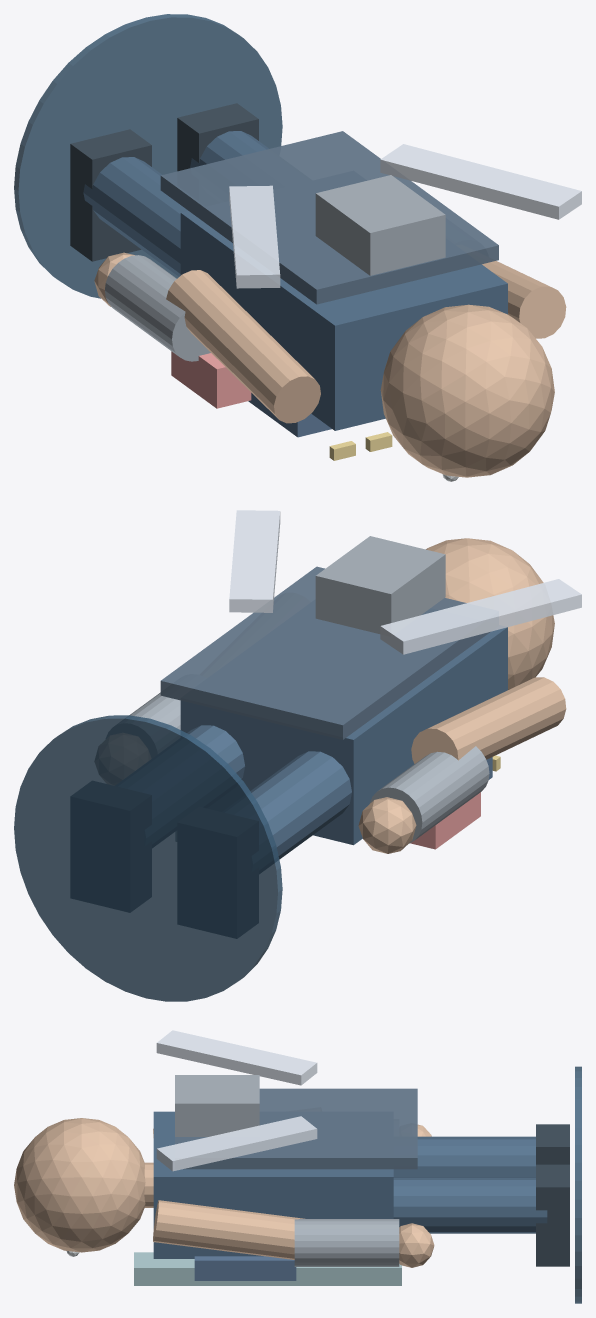
The model's file is SW_NPC_017_quen_brightmast.glb.
3 renders of one model, top to bottom at view 1: azimuth 30°, elevation 25°; view 2: azimuth 150°, elevation 25°; view 3: azimuth 270°, elevation 25°, orthographic. The views are drawn at different scales.
Visible parts, largest first — view 1: round_base_plate, head, torso_uniform, storm_cloak, left_upper_arm, wingpack_core, left_leg, right_wing_rig, left_forearm_gauntlet, left_boot, left_wing_rig, right_upper_arm (+5 smaller); view 2: round_base_plate, storm_cloak, torso_uniform, wingpack_core, head, left_upper_arm, left_wing_rig, left_leg, left_forearm_gauntlet, right_wing_rig, left_hand, rescue_satchel (+2 smaller); view 3: head, torso_uniform, storm_cloak, right_leg, right_upper_arm, left_leg, right_forearm_gauntlet, wingpack_core, rank_sash, right_wing_rig, left_wing_rig, right_boot (+5 smaller).
Part boxes in pixels (left/top/right/bottom): round_base_plate: left=14, top=14, right=282, bottom=298; head: left=380, top=304, right=554, bottom=477; torso_uniform: left=180, top=211, right=507, bottom=430; storm_cloak: left=160, top=131, right=498, bottom=304; left_upper_arm: left=166, top=270, right=320, bottom=423; wingpack_core: left=315, top=175, right=445, bottom=275; left_leg: left=83, top=157, right=188, bottom=276; right_wing_rig: left=380, top=144, right=581, bottom=219; left_forearm_gauntlet: left=105, top=255, right=210, bottom=361; left_boot: left=70, top=129, right=151, bottom=261; left_wing_rig: left=229, top=185, right=280, bottom=288; right_upper_arm: left=482, top=261, right=566, bottom=338; round_base_plate: left=14, top=715, right=282, bottom=1001; storm_cloak: left=160, top=566, right=490, bottom=739; torso_uniform: left=180, top=627, right=507, bottom=845; wingpack_core: left=315, top=536, right=445, bottom=633; head: left=426, top=538, right=554, bottom=689; left_upper_arm: left=411, top=677, right=566, bottom=763; left_wing_rig: left=380, top=579, right=581, bottom=654; left_leg: left=250, top=751, right=351, bottom=859; left_forearm_gauntlet: left=369, top=746, right=489, bottom=843; right_wing_rig: left=229, top=510, right=280, bottom=612; left_hand: left=358, top=797, right=416, bottom=853; rescue_satchel: left=410, top=792, right=480, bottom=849; head: left=14, top=1118, right=145, bottom=1252; torso_uniform: left=153, top=1111, right=393, bottom=1258; storm_cloak: left=175, top=1088, right=417, bottom=1169; right_leg: left=393, top=1177, right=547, bottom=1233; right_upper_arm: left=153, top=1200, right=304, bottom=1259; left_leg: left=393, top=1136, right=535, bottom=1177; right_forearm_gauntlet: left=294, top=1219, right=399, bottom=1266; wingpack_core: left=175, top=1075, right=259, bottom=1136; rank_sash: left=134, top=1252, right=401, bottom=1285; right_wing_rig: left=156, top=1116, right=317, bottom=1171; left_wing_rig: left=156, top=1030, right=317, bottom=1085; right_boot: left=536, top=1164, right=569, bottom=1266.
Size of the model in its own units: 1.1 by 0.84 by 2.01.
